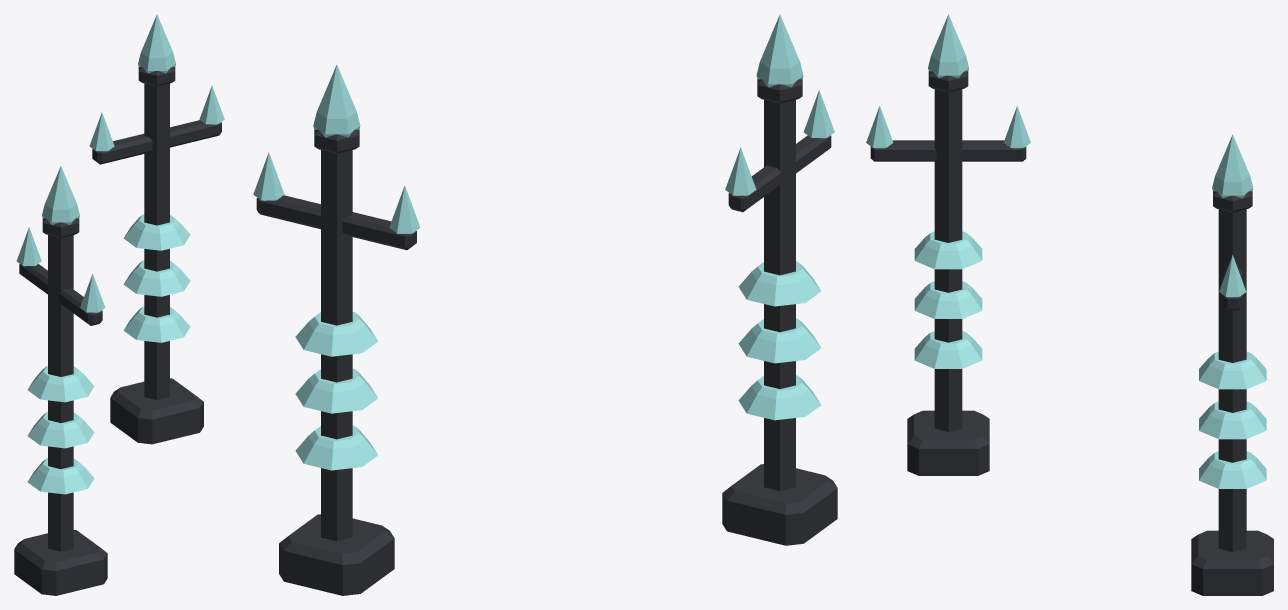
File: TeslaDressA1.obj
3 views of the same model, side by side, from view 1: azimuth 30°, elevation 25°; view 2: azimuth 150°, elevation 25°; view 3: azimuth 270°, elevation 25° (orthographic). The views are drawn at different scales.
Parts seen in each view (by area): view 1: TeslaDressA1; view 2: TeslaDressA1; view 3: TeslaDressA1.
Part boxes in pixels (x1,y1,x2,y2): TeslaDressA1: (14, 14, 224, 595); TeslaDressA1: (253, 14, 837, 595); TeslaDressA1: (866, 14, 1273, 595).
Bounding box in the file's own units: 0.886 × 1.07 × 0.89.
